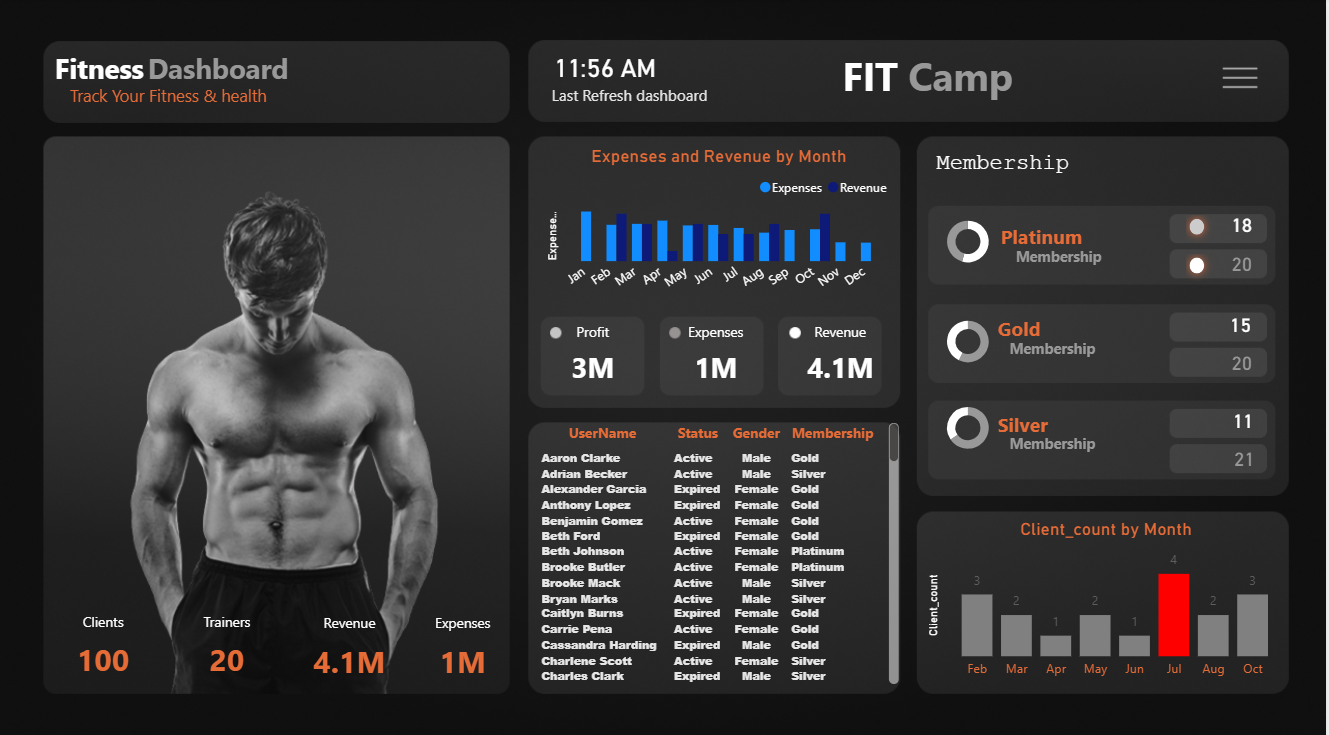

The dashboard page shown, as its layout file describes it:
{"tool":"powerbi","page":{"name":"Page 1","canvas":[1280,720],"ordinal":0},"visuals":[{"type":"cardVisual","fields":{"Data":["Table.Client_count"]},"box":[44.6,575.5,110,90],"z":0},{"type":"cardVisual","fields":{"Data":["Count(Users.Trainer Name)"]},"box":[163.7,575.9,110,90],"z":1000},{"type":"cardVisual","fields":{"Data":["Table.Revenue"]},"box":[282.7,576.7,110,90],"z":2000},{"type":"cardVisual","fields":{"Data":["Table.Expenses"]},"box":[392.1,576.7,109.8,89.3],"z":3000},{"type":"cardVisual","fields":{"Data":["Table.Profit"]},"box":[517.3,296.1,109.8,89.3],"z":4000},{"type":"cardVisual","fields":{"Data":["Table.Expenses"]},"box":[636.2,296.1,111,89.3],"z":5000},{"type":"lineClusteredColumnComboChart","fields":{"Category":["Calendar.Month"],"Y":["Table.Expenses","Table.Revenue"]},"box":[522.1,142.1,343.2,155.8],"z":6000},{"type":"columnChart","fields":{"Category":["Calendar.Month"],"Y":["Table.Client_count"]},"box":[890.9,501.3,354.5,163.6],"z":7000},{"type":"cardVisual","fields":{"Data":["Table.Revenue"]},"box":[756.2,296.1,109.8,89.3],"z":8000},{"type":"tableEx","fields":{"Values":["Users.UserName","Users.Status","Users.Gender","Users.Membership"]},"box":[511.5,405.4,360.7,261.8],"z":9000},{"type":"textbox","box":[957.9,212.3,100.1,45.8],"z":10000},{"type":"textbox","box":[957.9,301.6,74.8,42.2],"z":11000},{"type":"textbox","box":[957.9,394.5,74.8,41],"z":12000},{"type":"donutChart","fields":{"Y":["Calendar.User_Platinum"],"Category":["Users.Status"]},"box":[901.6,205.1,66.4,60.3],"z":13000},{"type":"donutChart","fields":{"Category":["Users.Status"],"Y":["Calendar.User_Gold"]},"box":[901.6,301.6,66.4,60.3],"z":14000},{"type":"donutChart","fields":{"Y":["Calendar.User_Silver"],"Category":["Users.Status"]},"box":[901.6,384.9,66.4,60.3],"z":15000},{"type":"textbox","box":[967.6,235.3,112.2,30.2],"z":16000},{"type":"textbox","box":[967.6,323.3,100.1,30.2],"z":17000},{"type":"textbox","box":[967.6,415,100.1,30.2],"z":18000},{"type":"card","fields":{"Values":["Calendar.Gold_active"]},"box":[1175.1,301.6,44.6,30.2],"z":19000},{"type":"card","fields":{"Values":["Calendar.Gold_Expried"]},"box":[1176.3,337.8,44.6,30.2],"z":20000},{"type":"card","fields":{"Values":["Calendar.Platinum_active"]},"box":[1176.3,205.1,44.6,30.2],"z":21000},{"type":"card","fields":{"Values":["Calendar.Gold_Expried"]},"box":[1176.3,242.5,44.6,30.2],"z":22000},{"type":"card","fields":{"Values":["Calendar.Silver _active"]},"box":[1177.4,394.6,44.6,30.2],"z":23000},{"type":"card","fields":{"Values":["Calendar.Silver_Expried"]},"box":[1178.6,430.8,44.6,30.2],"z":24000},{"type":"textbox","box":[44.6,44.6,109.8,45.8],"z":25000},{"type":"textbox","box":[131.5,44.6,165.3,45.8],"z":26000},{"type":"textbox","box":[38.6,78.4,252.1,45.8],"z":27000},{"type":"image","box":[1155.8,51.9,83.2,51.9],"z":28000},{"type":"textbox","box":[880.7,142.4,187,44.6],"z":29000},{"type":"card","fields":{"Values":["Calendar.Last_resresh"]},"box":[522.4,33.8,123.1,67.6],"z":30000},{"type":"textbox","box":[483.8,78.4,252.1,45.8],"z":31000},{"type":"textbox","box":[692.5,44.6,365.6,67.6],"z":32000},{"type":"shape","box":[1140.1,205.1,30.2,31.4],"z":33000},{"type":"shape","box":[1140.1,242.5,30.2,31.4],"z":34000}]}

Visuals, with their boxes in screenshot pixels (x1, y1, x2, y2), scaled from the page's 1280x720 canvas onto the 1329x735 screenshot:
cardVisual - Table.Client_count: x1=46, y1=587, x2=161, y2=679
cardVisual - Count(Users.Trainer Name): x1=170, y1=588, x2=284, y2=680
cardVisual - Table.Revenue: x1=294, y1=589, x2=408, y2=681
cardVisual - Table.Expenses: x1=407, y1=589, x2=521, y2=680
cardVisual - Table.Profit: x1=537, y1=302, x2=651, y2=393
cardVisual - Table.Expenses: x1=661, y1=302, x2=776, y2=393
lineClusteredColumnComboChart - Calendar.Month x Table.Expenses: x1=542, y1=145, x2=898, y2=304
columnChart - Calendar.Month x Table.Client_count: x1=925, y1=512, x2=1293, y2=679
cardVisual - Table.Revenue: x1=785, y1=302, x2=899, y2=393
tableEx - Users.UserName x Users.Status: x1=531, y1=414, x2=906, y2=681
textbox: x1=995, y1=217, x2=1099, y2=263
textbox: x1=995, y1=308, x2=1072, y2=351
textbox: x1=995, y1=403, x2=1072, y2=445
donutChart - Calendar.User_Platinum x Users.Status: x1=936, y1=209, x2=1005, y2=271
donutChart - Users.Status x Calendar.User_Gold: x1=936, y1=308, x2=1005, y2=369
donutChart - Calendar.User_Silver x Users.Status: x1=936, y1=393, x2=1005, y2=454
textbox: x1=1005, y1=240, x2=1121, y2=271
textbox: x1=1005, y1=330, x2=1109, y2=361
textbox: x1=1005, y1=424, x2=1109, y2=454
card - Calendar.Gold_active: x1=1220, y1=308, x2=1266, y2=339
card - Calendar.Gold_Expried: x1=1221, y1=345, x2=1268, y2=376
card - Calendar.Platinum_active: x1=1221, y1=209, x2=1268, y2=240
card - Calendar.Gold_Expried: x1=1221, y1=248, x2=1268, y2=278
card - Calendar.Silver _active: x1=1222, y1=403, x2=1269, y2=434
card - Calendar.Silver_Expried: x1=1224, y1=440, x2=1270, y2=471
textbox: x1=46, y1=46, x2=160, y2=92
textbox: x1=137, y1=46, x2=308, y2=92
textbox: x1=40, y1=80, x2=302, y2=127
image: x1=1200, y1=53, x2=1286, y2=106
textbox: x1=914, y1=145, x2=1109, y2=191
card - Calendar.Last_resresh: x1=542, y1=35, x2=670, y2=104
textbox: x1=502, y1=80, x2=764, y2=127
textbox: x1=719, y1=46, x2=1099, y2=115
shape: x1=1184, y1=209, x2=1215, y2=241
shape: x1=1184, y1=248, x2=1215, y2=280
